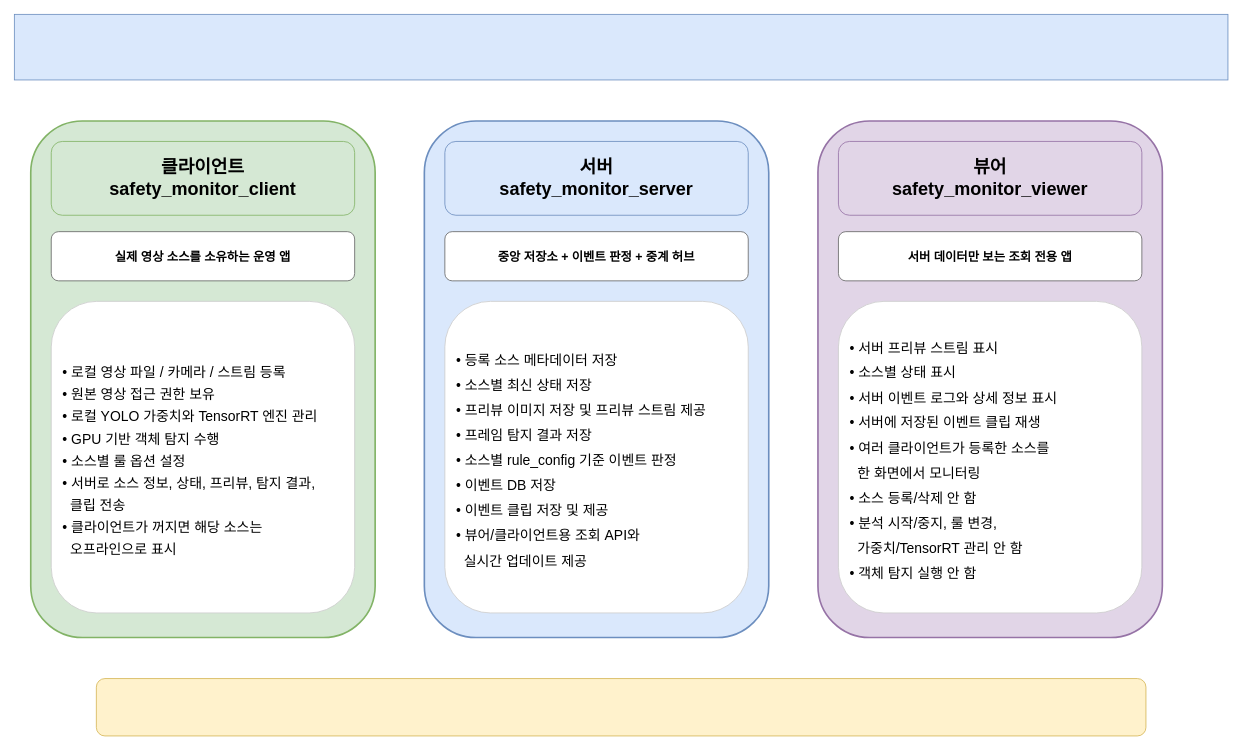
Image size: 1242x750. Some labels were removed from this diagram. The shapes that lost their labels are listed below. From the top down, each one's box as (x1, y1, x2, y2) in pixels, then its label:
(14, 14, 1228, 80): 서버-클라이언트-뷰어 역할 정리
(96, 678, 1146, 736): 흐름 요약: 클라이언트가 탐지 결과를 서버에 보냄 → 서버가 저장하고 이벤트를 판정함 → 뷰어가 서버 데이터를 조회함
